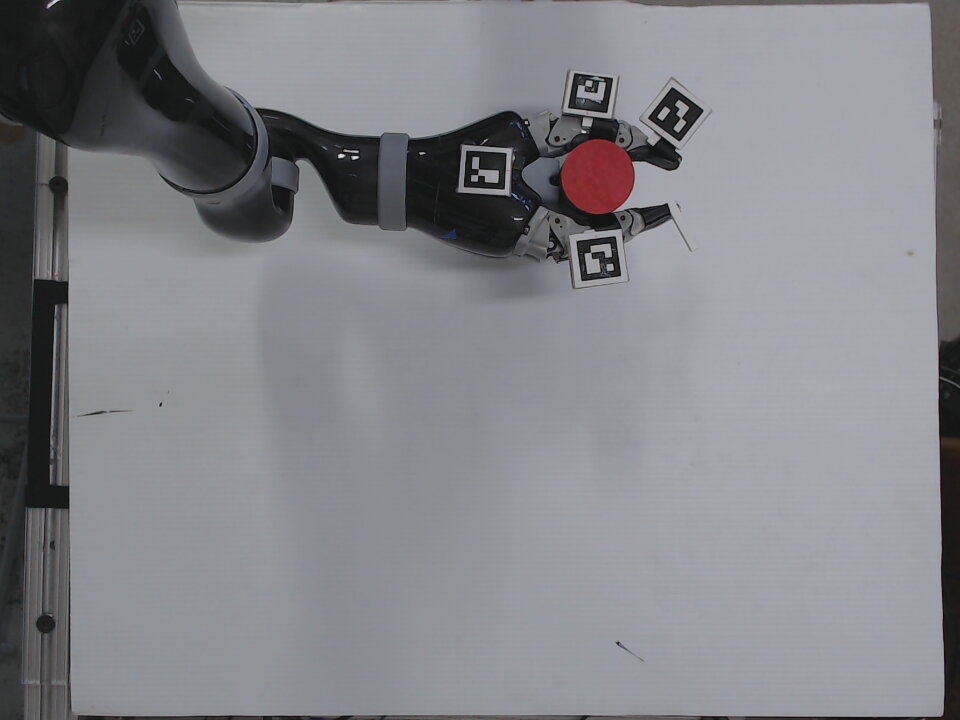cylinder: (555, 137, 639, 219)
